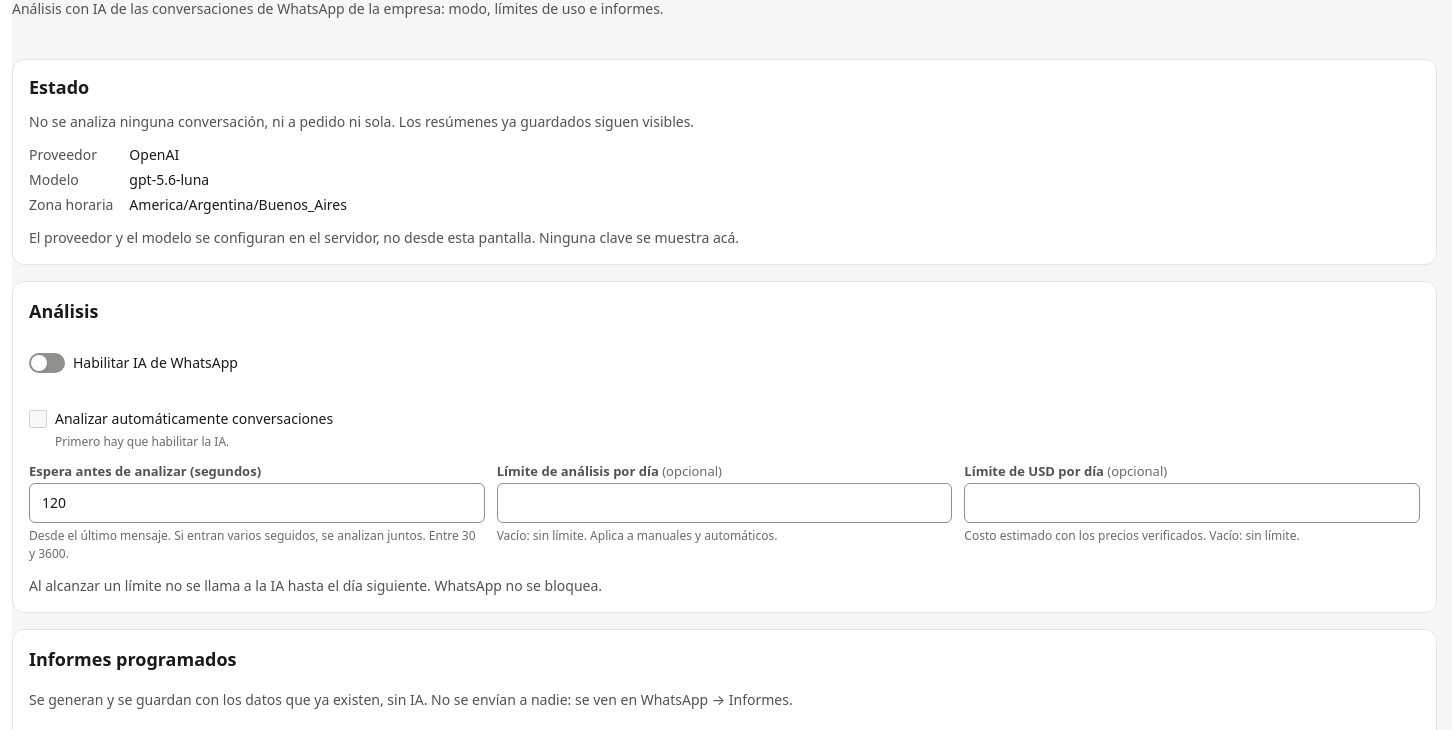
Test: Configuración → WhatsApp · IA › guarda SÓLO lo que cambió, con la versión leída, y avisa el resultado
Click the switch labelled "Habilitar IA de WhatsApp" at x=133, y=362, box top-left (29, 352), bottom-right (238, 372)
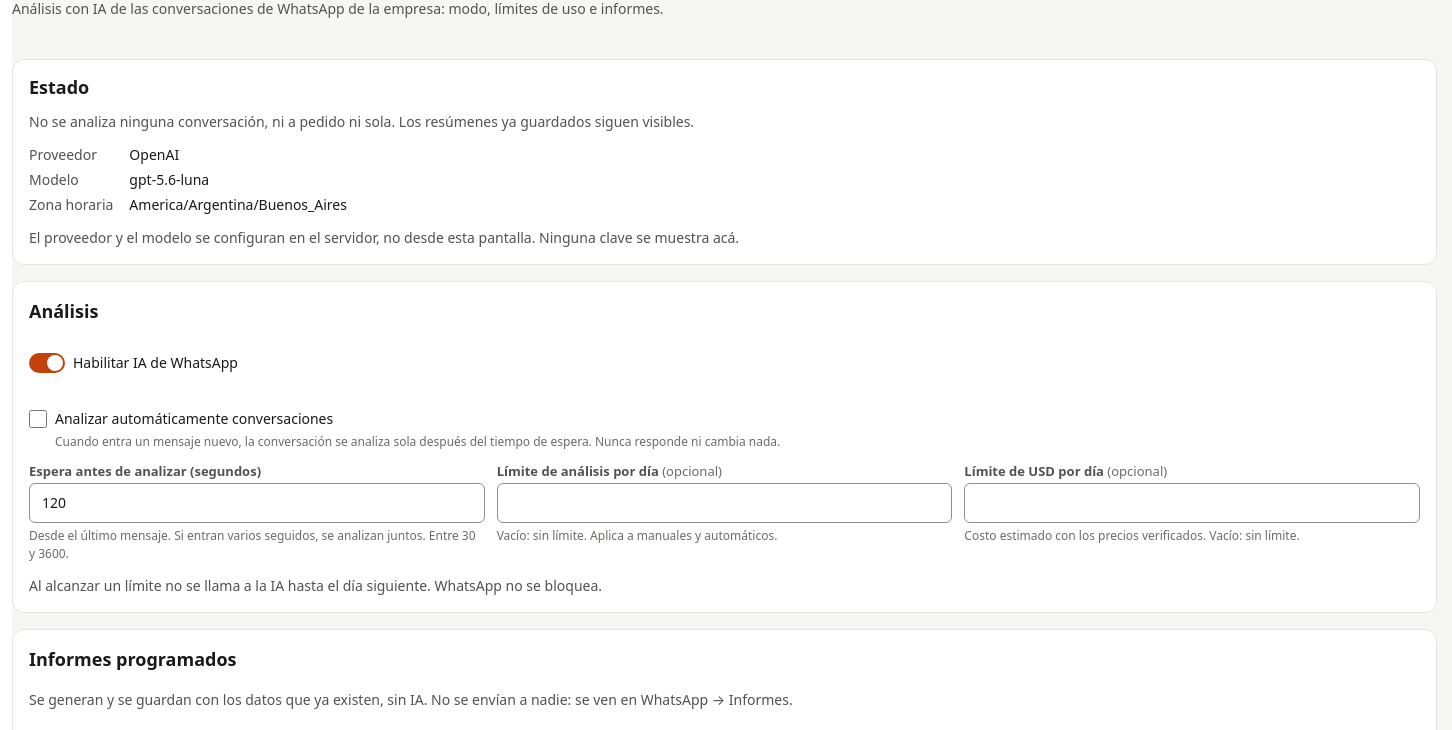
Type "50" into the field labelled "Límite de análisis por día (opcional)" at x=725, y=503, box top-left (497, 483), bottom-right (952, 523)
(page scrolled)
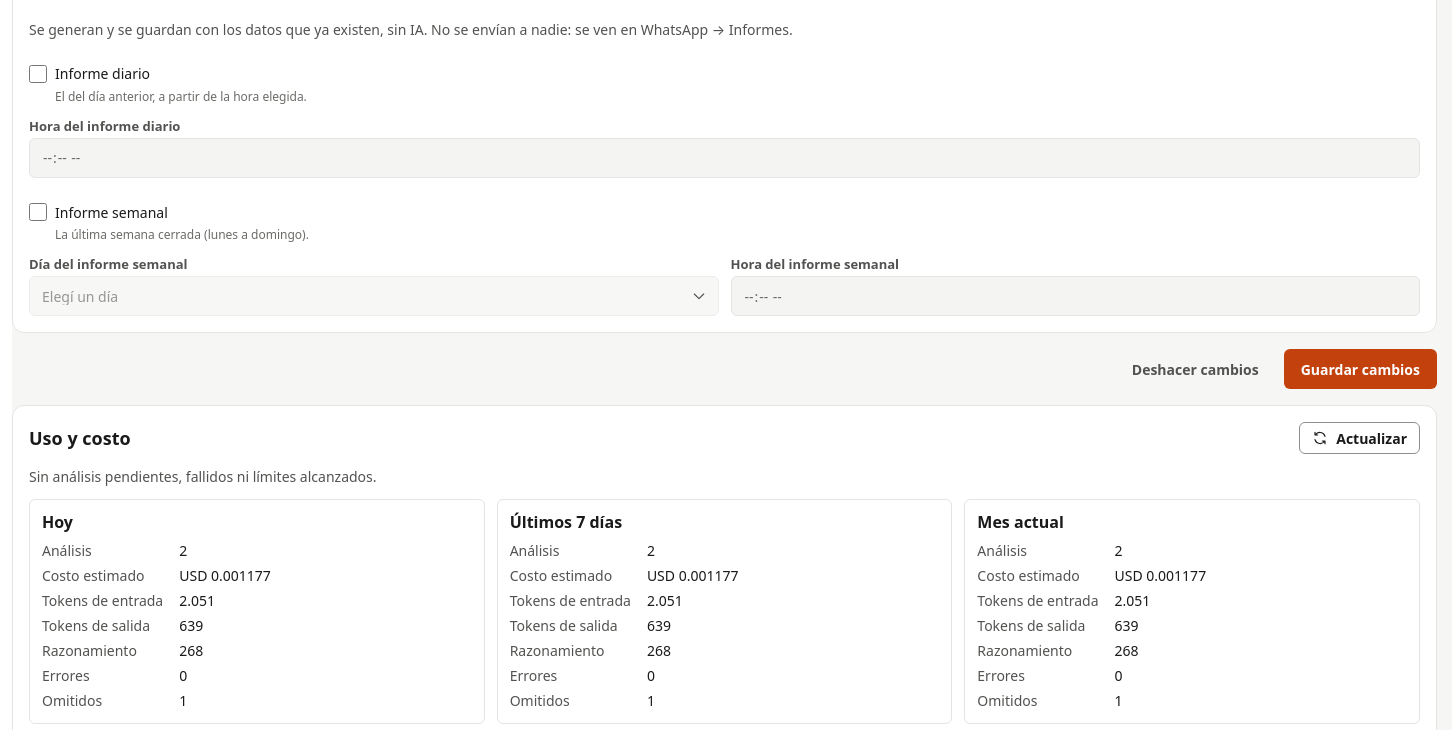
Click the button "Guardar cambios" at x=1360, y=369, box top-left (1284, 349), bottom-right (1437, 389)
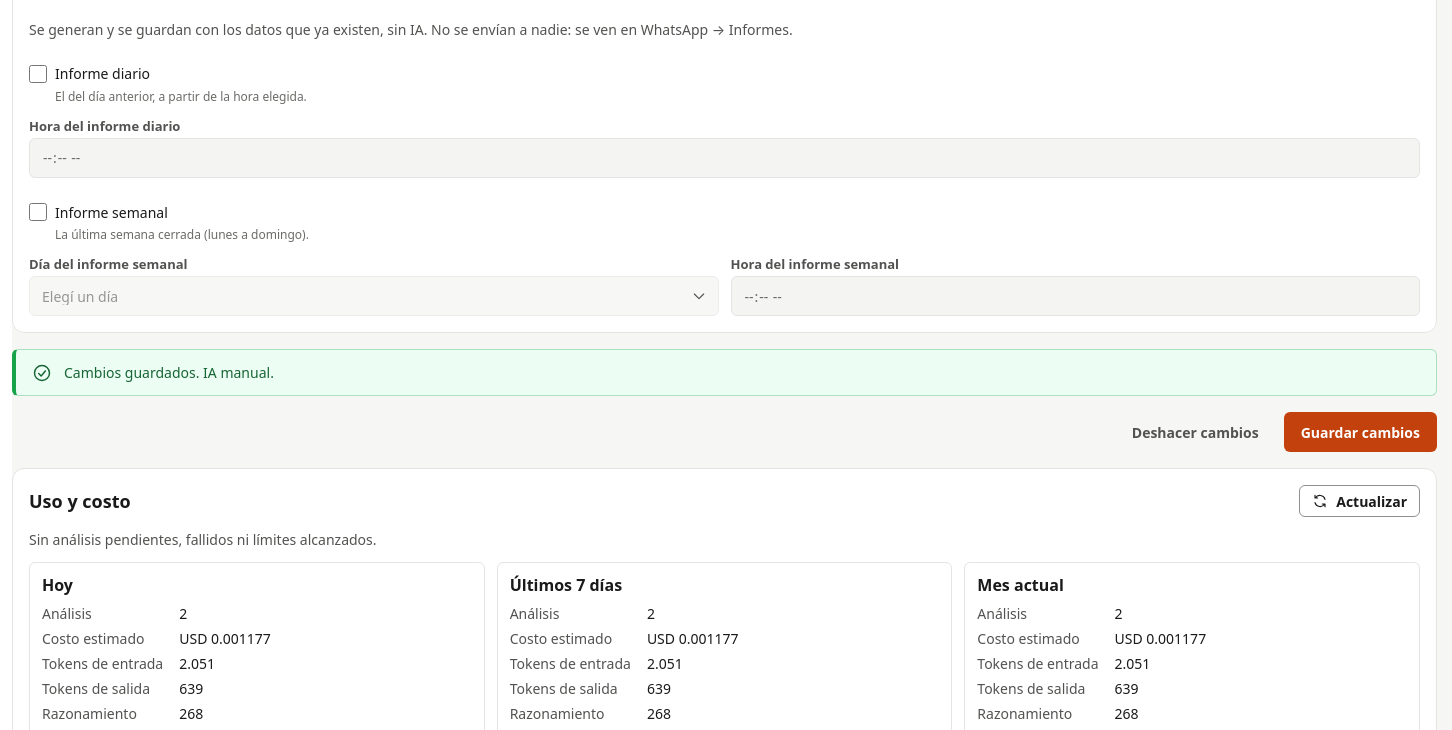
Expected: the text "Cambios guardados. IA manual." is shown, top-left (64, 363), bottom-right (274, 382)
